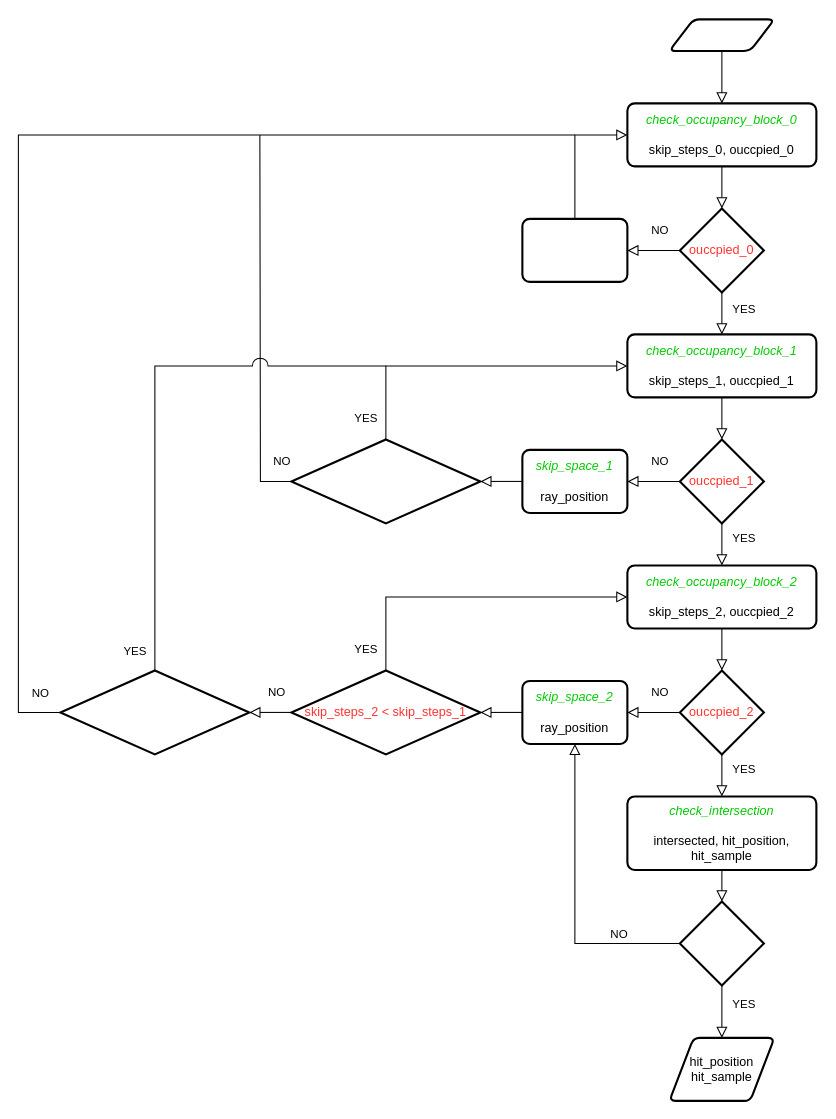
This 836x1119 diagram has some shape labels left out. The centre of each missing label's shape, as x and y in pixels:
intersected: [721,943]
ray_position: [721,34]
skip_space_0 ray_position: [574,249]
skip_steps_1 < skip_steps_0: [385,481]
skip_steps_2 < skip_steps_0: [154,712]
